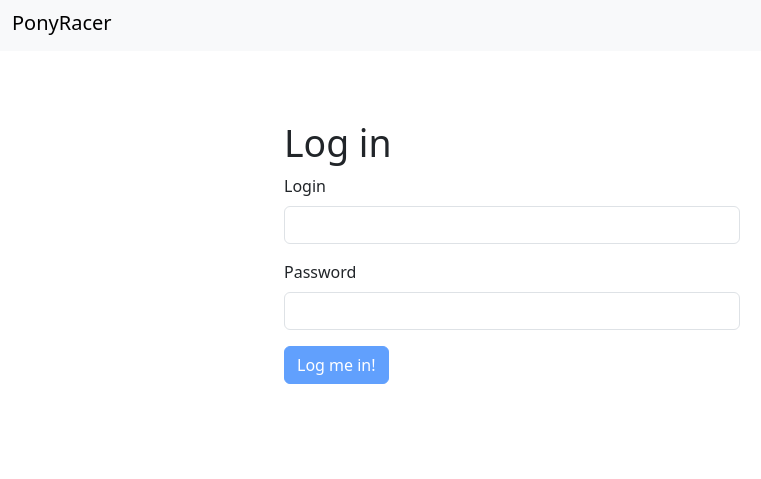
Test: Login › should display an alert if login fails
Type "ced" into the field labelled "Login" at (512, 225), box [284, 206, 740, 244]
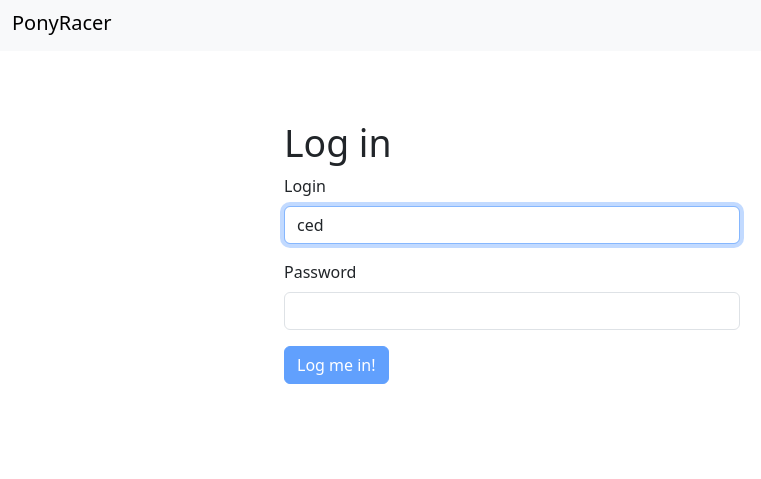
Type "pa" into the password field labelled "Password" at (512, 311), box [284, 292, 740, 330]
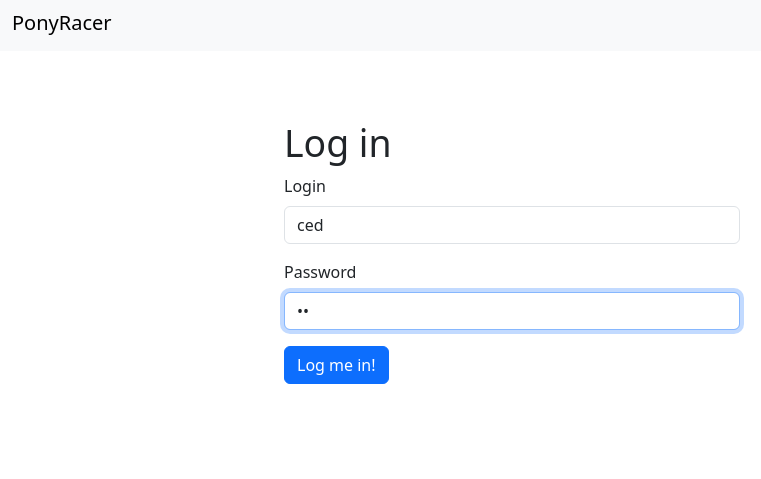
Click the button "Log me in!" at (337, 365), box [284, 346, 389, 384]
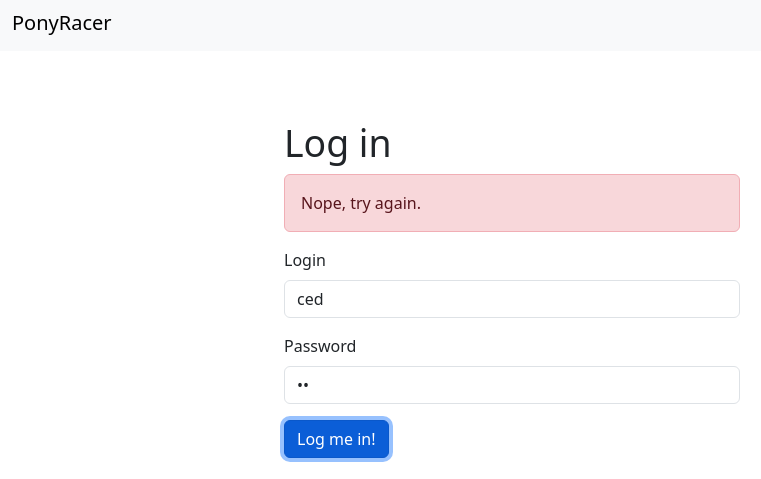
Expected: the text with class "alert-danger" shows "Nope, try again", [301, 192, 421, 214]
